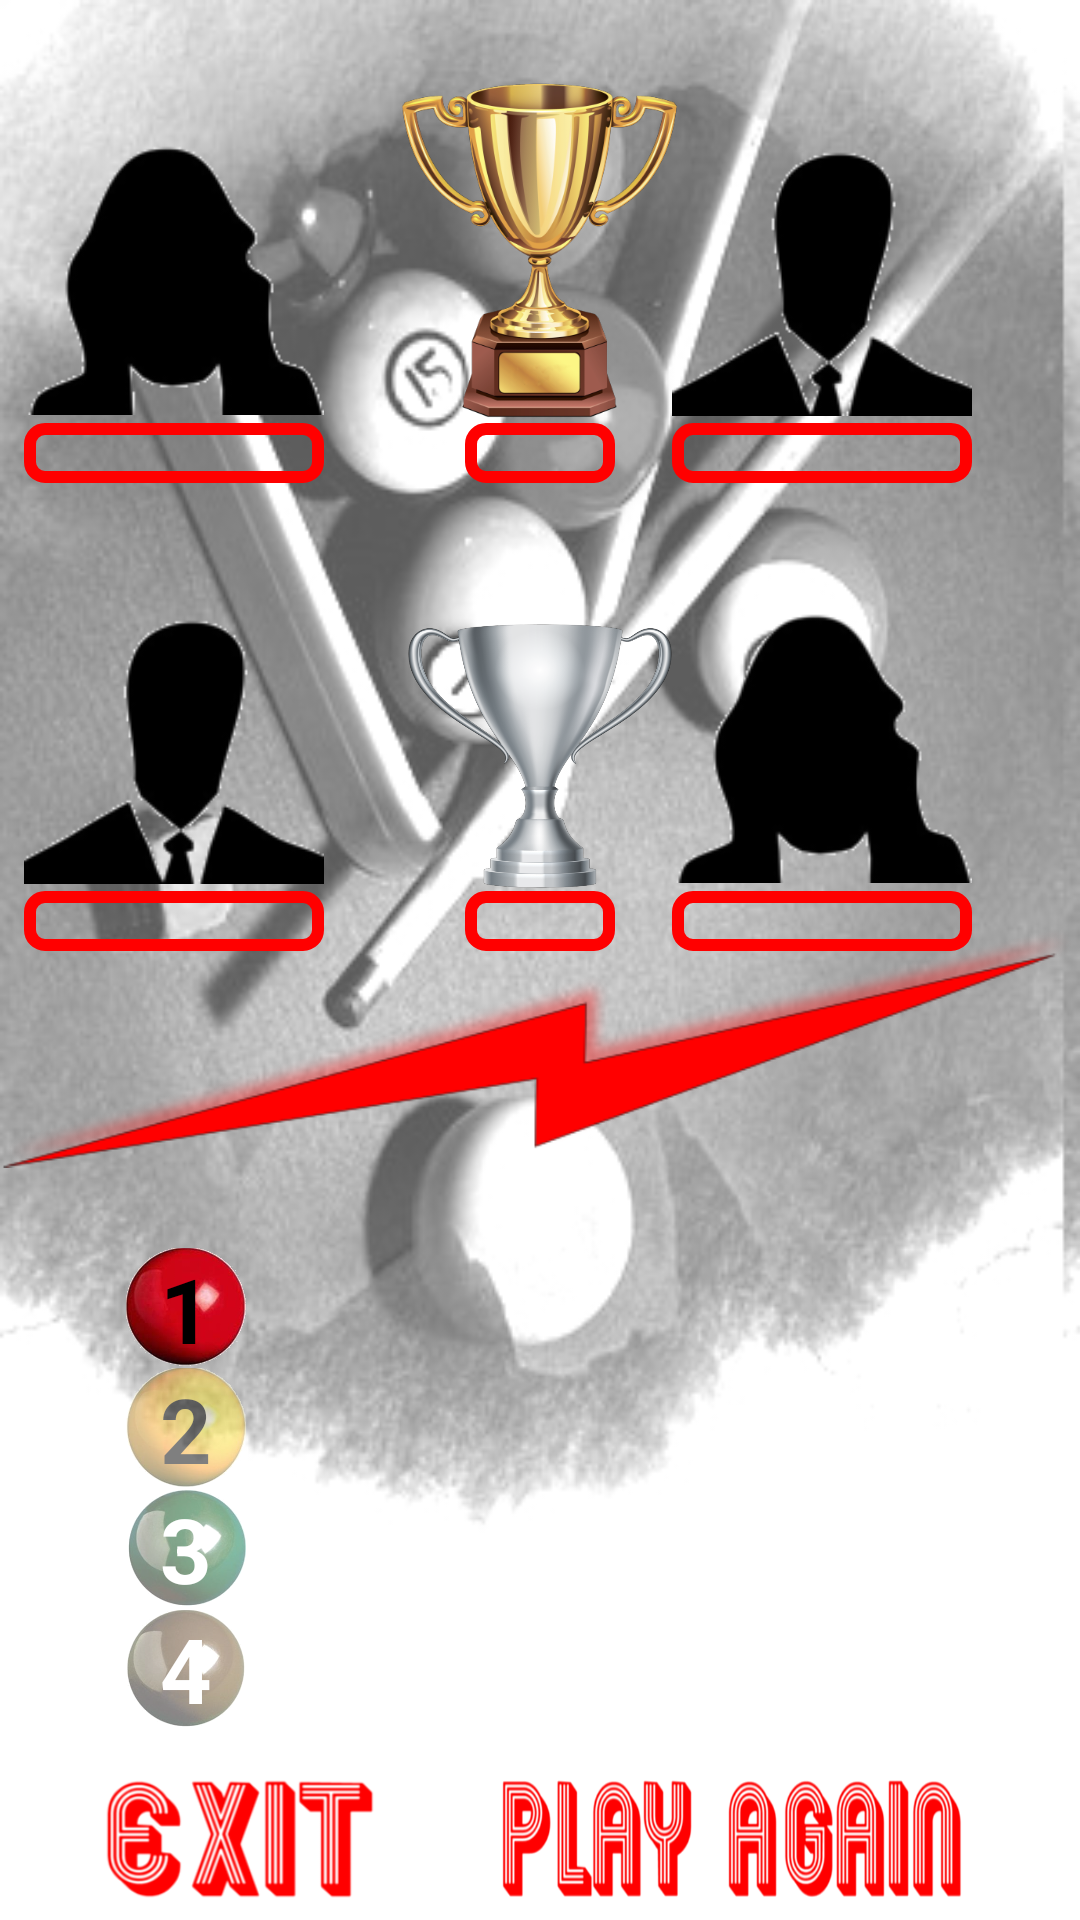

Screen size 1080 x 1920. Icon name, then its center in pixels as (x=x, y=y):
gold cup: (x=540, y=243)
silver cup: (x=540, y=756)
